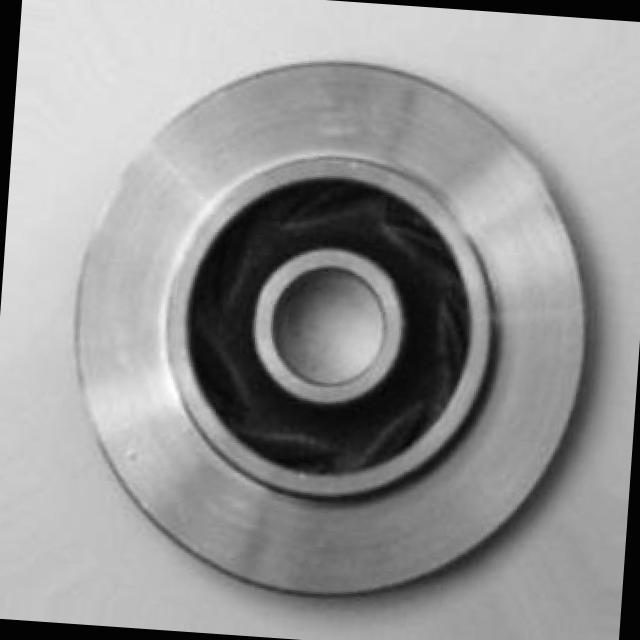Defect: (126, 446, 147, 468)
